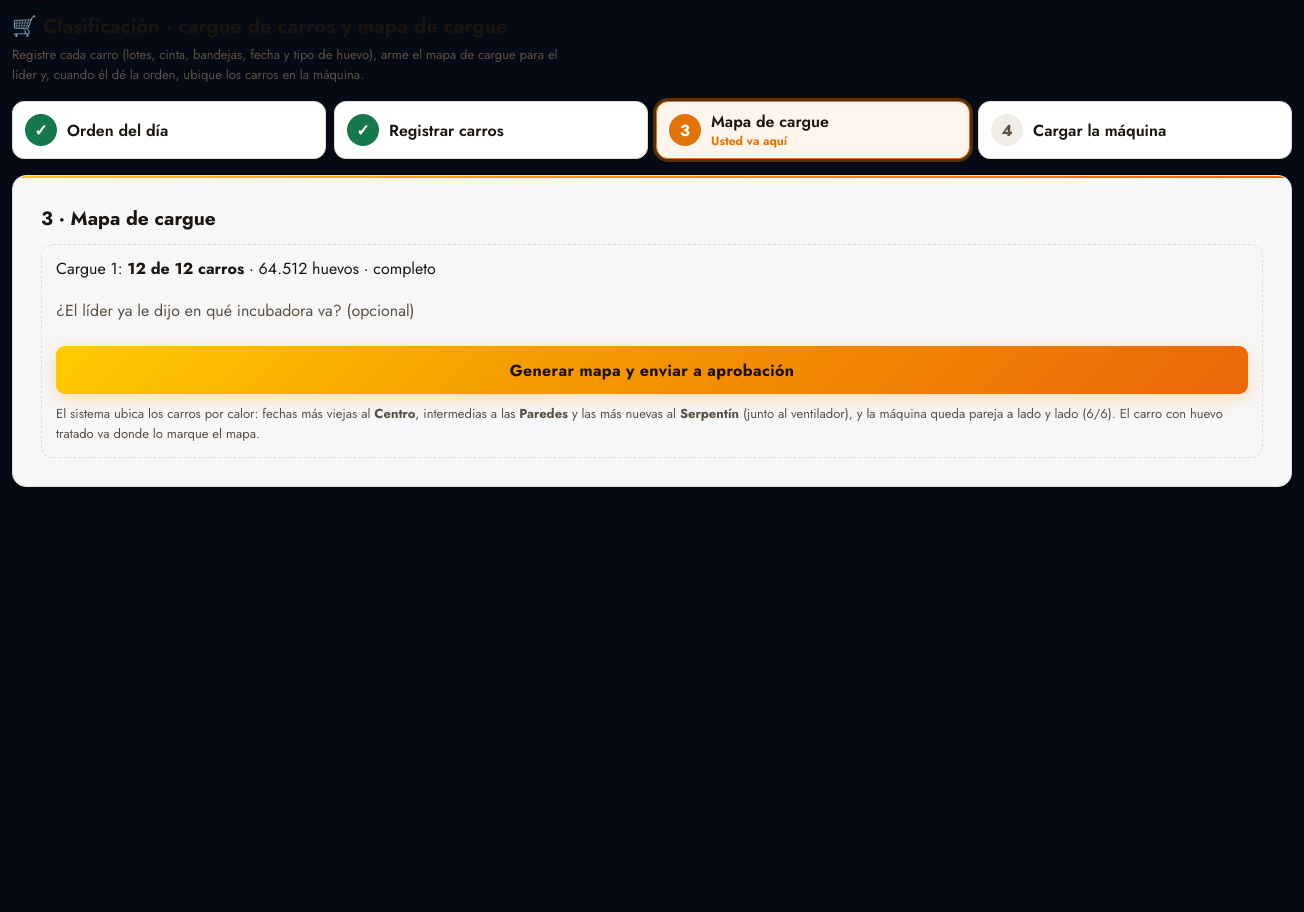
Test: pantalla de clasificación del operario › con 12 carros genera el mapa y lo envía a aprobación (el operario no aprueba)
Click the button "Generar mapa y enviar a aprobación": (652, 370) [56,346,1248,394]
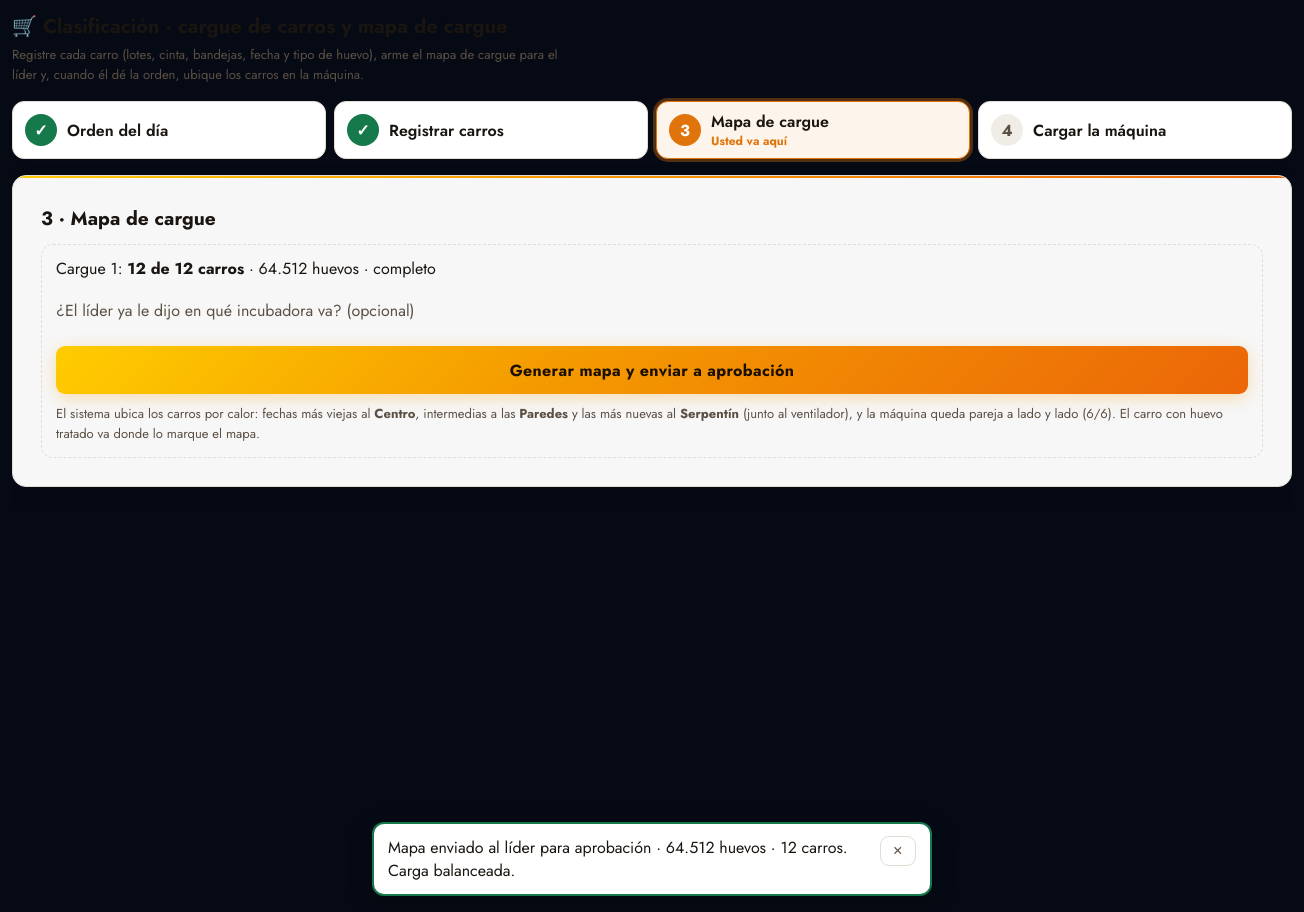
Expected: the message with class "cls-toast" shows "Mapa enviado al líder para aprobación", [388,836,848,882]
